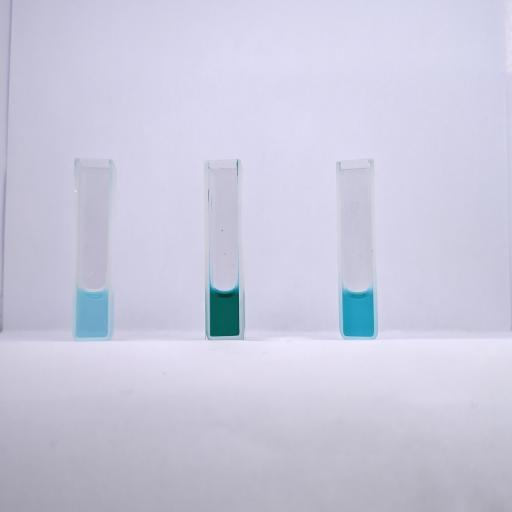cuvette: (70, 156, 116, 342), (334, 157, 380, 339), (202, 158, 247, 341)
liquid: (76, 287, 109, 337), (209, 288, 239, 336), (343, 288, 373, 336)
